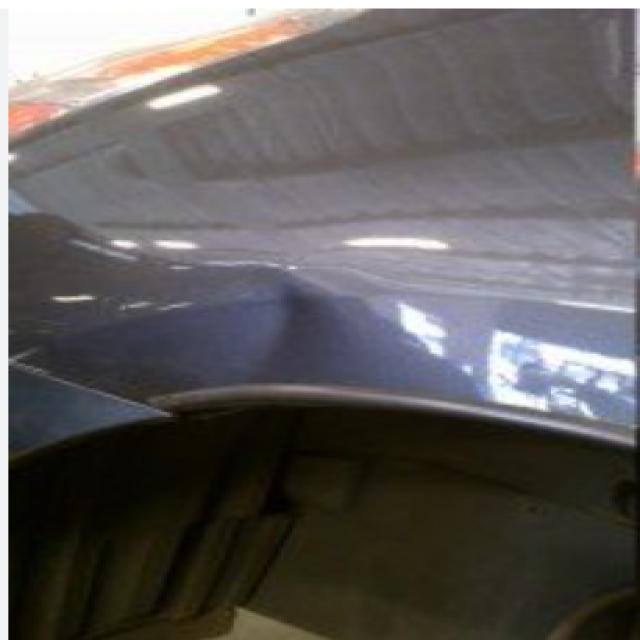dents: (213, 256, 382, 395)
